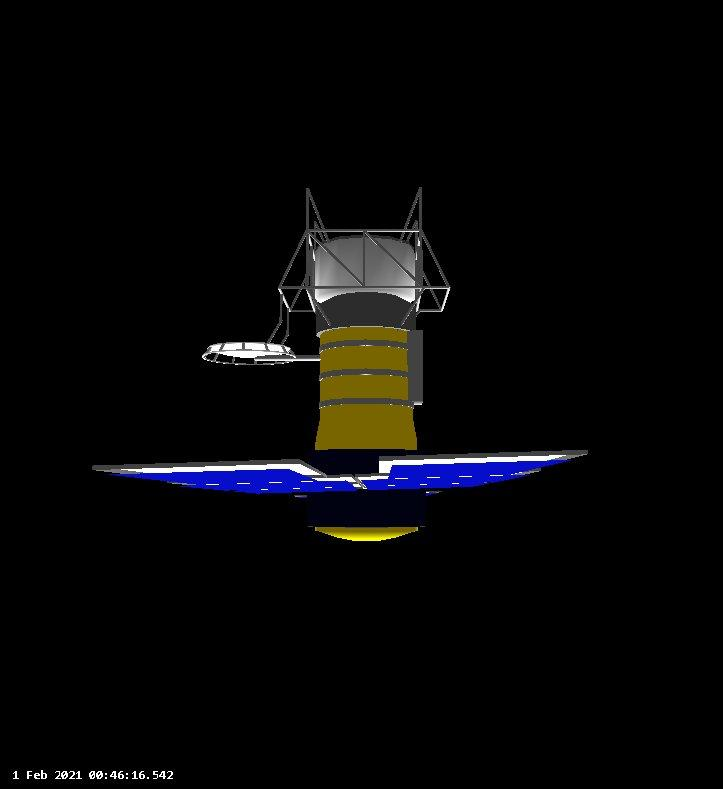antenna: (203, 339, 298, 367)
body: (309, 227, 421, 547)
solar: (88, 446, 593, 499)
